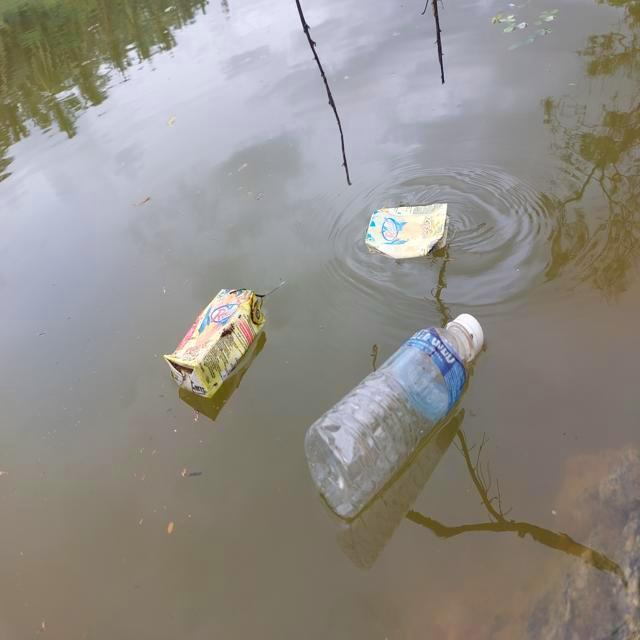Plastic: (302, 312, 491, 525), (165, 285, 270, 404), (363, 196, 463, 265)
